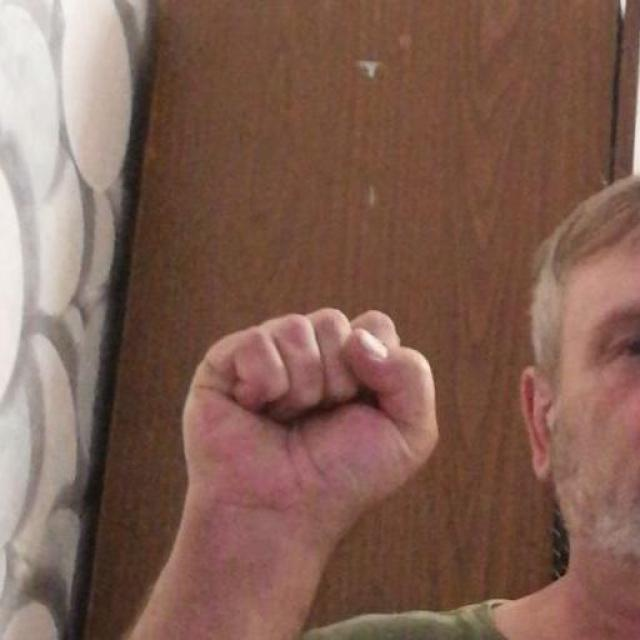hand: (179, 305, 440, 550)
